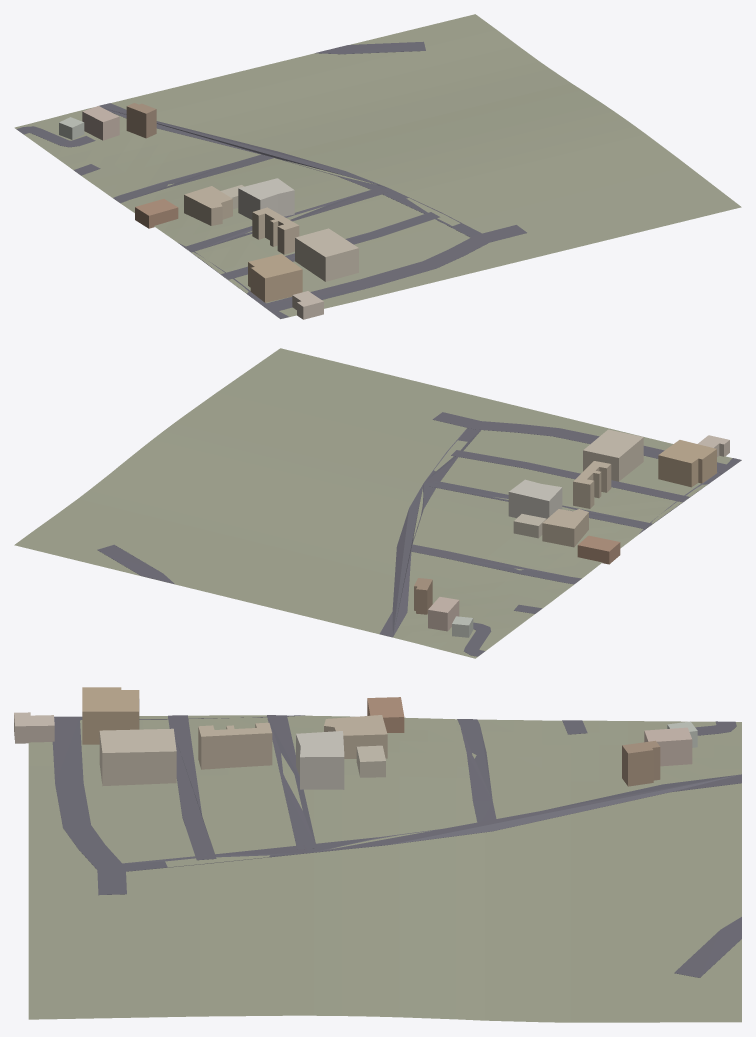
Rendered from chunk_11_7.glb.
The picture shows the model from 3 angles, top to bottom: view 1: azimuth 30°, elevation 25°; view 2: azimuth 150°, elevation 25°; view 3: azimuth 270°, elevation 25°; orthographic projection. The views are drawn at different scales.
Parts seen in each view (by area): view 1: geometry_11, geometry_15, geometry_14, geometry_9, geometry_7, geometry_5, geometry_6, geometry_10, geometry_16, geometry_18, geometry_17, geometry_1 (+5 smaller); view 2: geometry_11, geometry_14, geometry_7, geometry_9, geometry_15, geometry_5, geometry_17, geometry_10, geometry_18, geometry_6, geometry_16, geometry_8 (+5 smaller); view 3: geometry_11, geometry_14, geometry_15, geometry_9, geometry_6, geometry_17, geometry_5, geometry_7, geometry_16, geometry_18, geometry_10, geometry_3 (+5 smaller).
Boxes of the visible parts, <box> form: geometry_11: <box>14,14,741,319</box>; geometry_15: <box>261,225,526,312</box>; geometry_14: <box>99,103,481,237</box>; geometry_9: <box>295,228,358,281</box>; geometry_7: <box>248,254,302,302</box>; geometry_5: <box>238,178,294,219</box>; geometry_6: <box>252,207,299,254</box>; geometry_10: <box>184,186,232,225</box>; geometry_16: <box>184,187,387,252</box>; geometry_18: <box>113,154,274,203</box>; geometry_17: <box>221,212,439,279</box>; geometry_1: <box>82,106,119,140</box>; geometry_11: <box>14,348,741,658</box>; geometry_14: <box>379,428,480,637</box>; geometry_7: <box>658,440,716,487</box>; geometry_9: <box>583,429,643,481</box>; geometry_15: <box>432,412,732,473</box>; geometry_5: <box>508,479,562,518</box>; geometry_17: <box>451,450,689,502</box>; geometry_10: <box>542,509,588,547</box>; geometry_18: <box>411,544,581,584</box>; geometry_6: <box>573,461,611,508</box>; geometry_16: <box>428,480,652,529</box>; geometry_8: <box>577,535,620,564</box>; geometry_11: <box>28,715,741,1022</box>; geometry_14: <box>122,774,741,871</box>; geometry_15: <box>52,716,126,895</box>; geometry_9: <box>99,728,176,786</box>; geometry_6: <box>198,722,272,769</box>; geometry_17: <box>168,715,216,860</box>; geometry_5: <box>296,731,344,789</box>; geometry_7: <box>82,687,139,744</box>; geometry_16: <box>267,715,316,849</box>; geometry_18: <box>457,719,496,822</box>; geometry_10: <box>324,715,387,758</box>; geometry_3: <box>622,740,660,786</box>.
Size of the model in its own units: 254 by 15.6 by 255.
